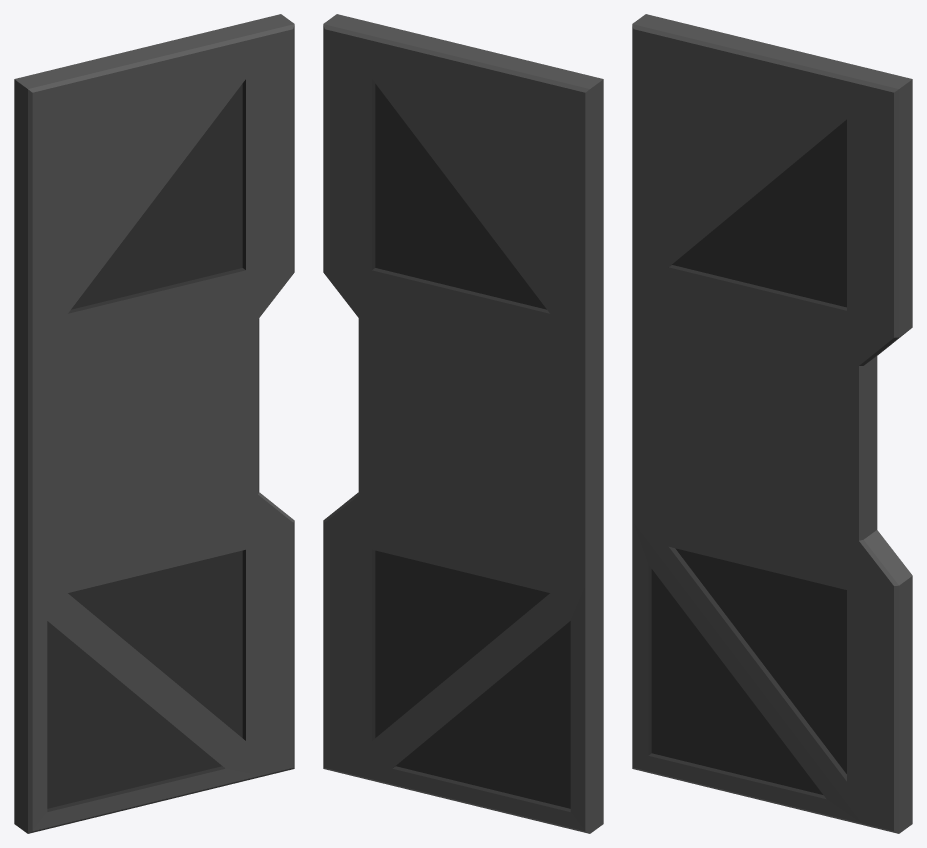
The model's file is area_51_door_left.glb.
3 renders of one model, left to right at view 1: azimuth 30°, elevation 25°; view 2: azimuth 150°, elevation 25°; view 3: azimuth 330°, elevation 25°, orthographic.
Parts seen in each view (by area): view 1: area51_door_left-col; view 2: area51_door_left-col; view 3: area51_door_left-col.
Boxes of the visible parts, x1,y1,x2,y2 form: area51_door_left-col: [14, 14, 294, 833]; area51_door_left-col: [323, 14, 603, 833]; area51_door_left-col: [632, 14, 912, 833].
Size of the model in its own units: 0.9 by 2.4 by 0.1.
1 material, 1 textured.
